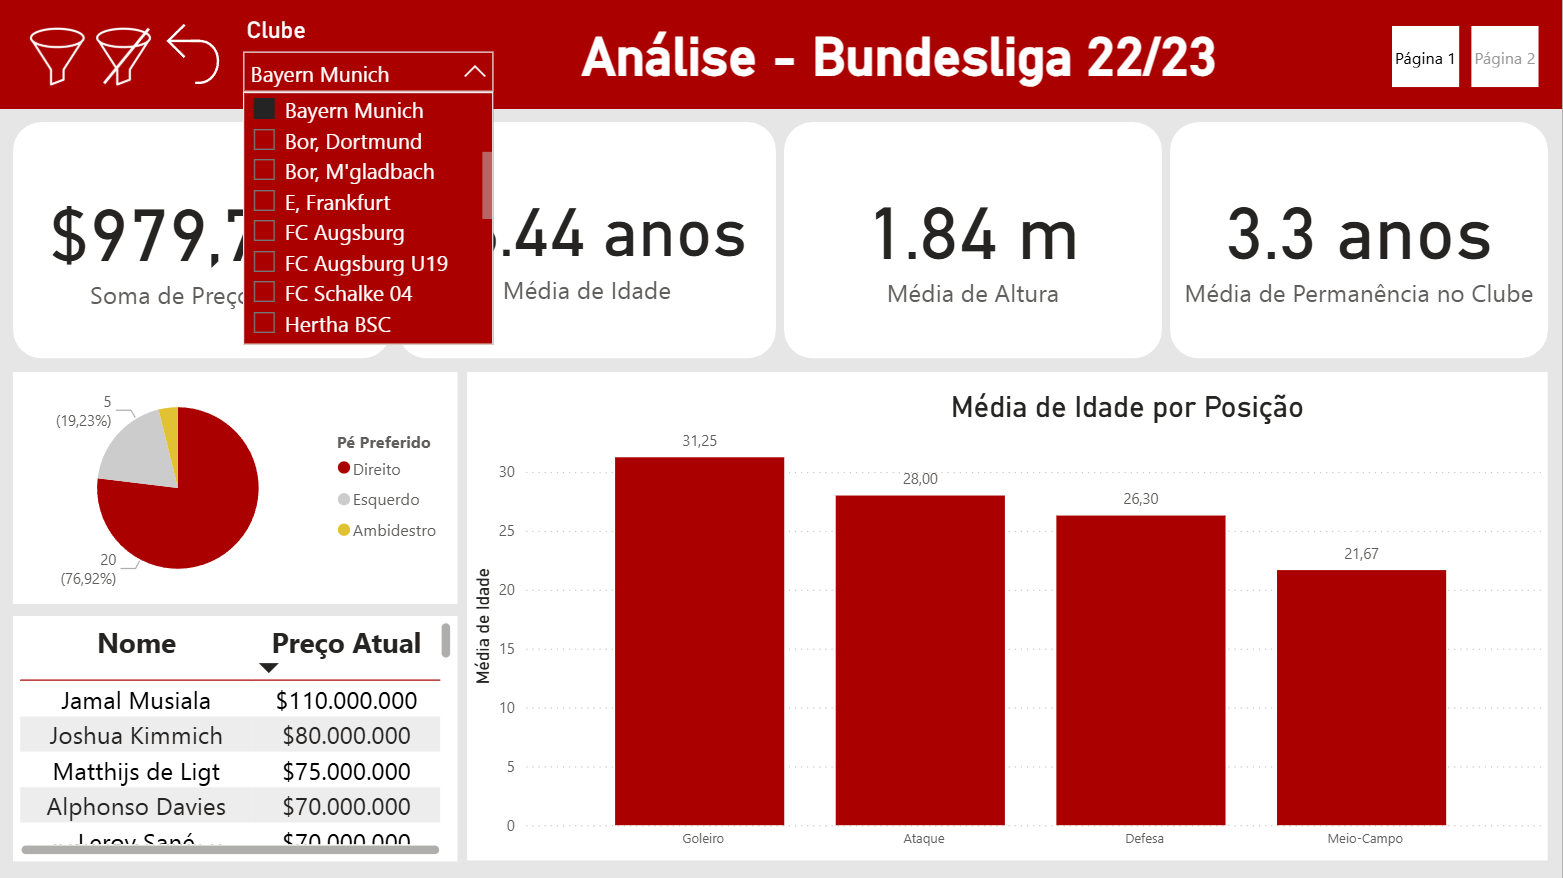

The dashboard page shown, as its layout file describes it:
{"tool":"powerbi","page":{"name":"Página 1","canvas":[1280,720],"ordinal":0},"visuals":[{"type":"textbox","box":[194.7,16.7,1085.3,60.7],"z":1000},{"type":"shape","box":[0,89.1,1280,630.1],"z":2000},{"type":"shape","box":[959.4,99.9,309.5,193.6],"z":3000},{"type":"tableEx","fields":{"Values":["bundesliga_player 2.Nome","Sum(bundesliga_player 2.Preço Atual)"]},"box":[11.7,504.1,364,200.6],"z":4000},{"type":"shape","box":[11.1,99.9,309.5,193.6],"z":5000},{"type":"card","fields":{"Values":["Sum(bundesliga_player 2.Preço Atual)"]},"box":[11.1,133.2,309.5,129.5],"z":6000},{"type":"clusteredColumnChart","title":"_","fields":{"Category":["bundesliga_player 2.Posição"],"Y":["Avg(bundesliga_player 2.Idade)"]},"box":[383.2,304.6,885.2,400.1],"z":7000},{"type":"pieChart","fields":{"Category":["bundesliga_player 2.Pé Preferido"],"Y":["CountNonNull(bundesliga_player 2.Pé Preferido)"]},"box":[11.7,304.6,364,190],"z":8000},{"type":"card","fields":{"Values":["bundesliga_player.Média de Permanência no Clube","select","select1"]},"box":[959.4,131.9,309.5,129.5],"z":9000},{"type":"textbox","box":[578.8,314.4,690,42.9],"z":10000},{"type":"shape","box":[326.8,99.9,309.5,193.6],"z":11000},{"type":"card","fields":{"Values":["bundesliga_player.Média de Idade (com texto)"]},"box":[326.8,131.9,309.5,129.5],"z":12000},{"type":"pageNavigator","box":[1141.2,21.4,120.4,50],"z":13000},{"type":"actionButton","box":[126.8,8.5,64,71.2],"z":14000},{"type":"shape","box":[642.5,99.9,309.5,193.6],"z":15000},{"type":"card","fields":{"Values":["bundesliga_player.Média de Altura (m)"]},"box":[642.5,131.9,309.5,129.5],"z":16000},{"type":"image","box":[19.3,7.2,114.7,77.3],"z":17000},{"type":"actionButton","box":[19.3,8.5,58,68.8],"z":18000},{"type":"actionButton","box":[76.1,8.5,58,68.8],"z":19000},{"type":"slicer","fields":{"Values":["bundesliga_player 2.Clube"]},"box":[189.6,8.5,224.6,68.8],"z":19500}]}

Visuals, with their boxes in screenshot pixels (x1, y1, x2, y2), scaled from the page's 1280x720 canvas onto the 1563x878 screenshot:
textbox: (left=238, top=20, right=1562, bottom=94)
shape: (left=0, top=109, right=1562, bottom=877)
shape: (left=1172, top=122, right=1549, bottom=358)
tableEx - bundesliga_player 2.Nome x Sum(bundesliga_player 2.Preço Atual): (left=14, top=615, right=459, bottom=859)
shape: (left=14, top=122, right=391, bottom=358)
card - Sum(bundesliga_player 2.Preço Atual): (left=14, top=162, right=391, bottom=320)
"_" clusteredColumnChart: (left=468, top=371, right=1549, bottom=859)
pieChart - bundesliga_player 2.Pé Preferido x CountNonNull(bundesliga_player 2.Pé Preferido): (left=14, top=371, right=459, bottom=603)
card - bundesliga_player.Média de Permanência no Clube x select: (left=1172, top=161, right=1549, bottom=319)
textbox: (left=707, top=383, right=1549, bottom=436)
shape: (left=399, top=122, right=777, bottom=358)
card - bundesliga_player.Média de Idade (com texto): (left=399, top=161, right=777, bottom=319)
pageNavigator: (left=1394, top=26, right=1541, bottom=87)
actionButton: (left=155, top=10, right=233, bottom=97)
shape: (left=785, top=122, right=1162, bottom=358)
card - bundesliga_player.Média de Altura (m): (left=785, top=161, right=1162, bottom=319)
image: (left=24, top=9, right=164, bottom=103)
actionButton: (left=24, top=10, right=94, bottom=94)
actionButton: (left=93, top=10, right=164, bottom=94)
slicer - bundesliga_player 2.Clube: (left=232, top=10, right=506, bottom=94)
